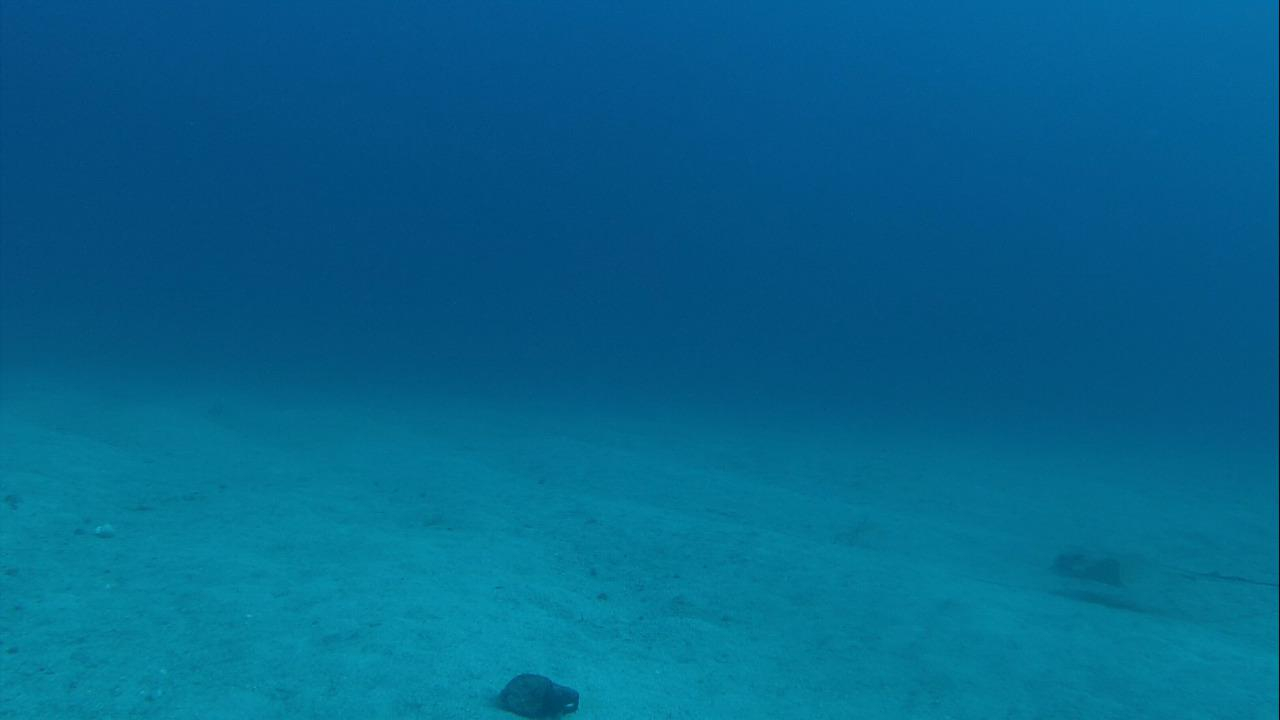myliobatis: (1033, 521, 1279, 605)
